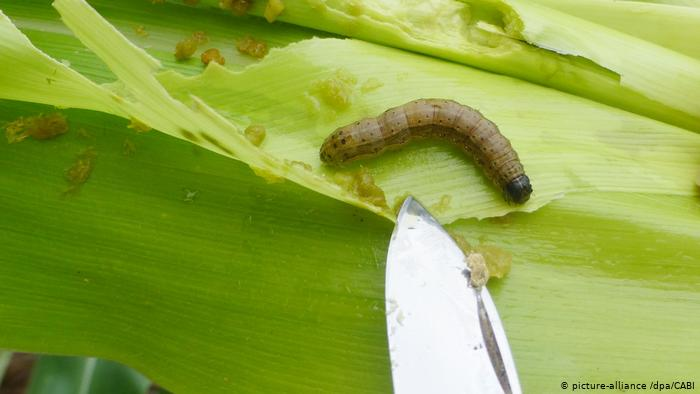Armyworm: (304, 88, 558, 222)
